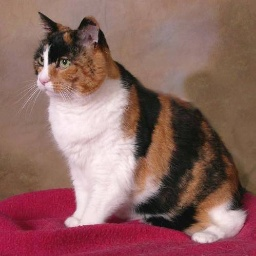cat: (22, 13, 252, 245)
